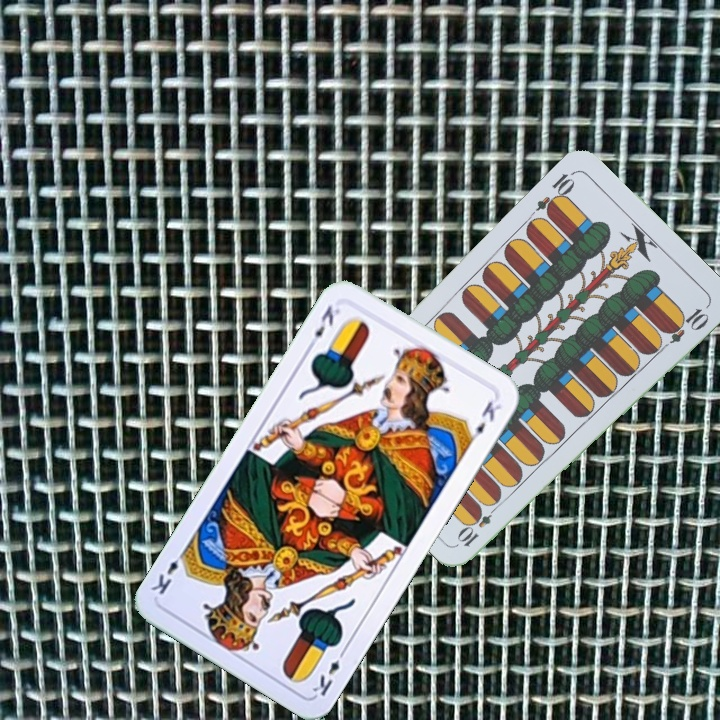E10: (454, 499, 502, 550), (532, 167, 578, 219)
EK: (308, 644, 350, 699), (304, 301, 343, 352)
